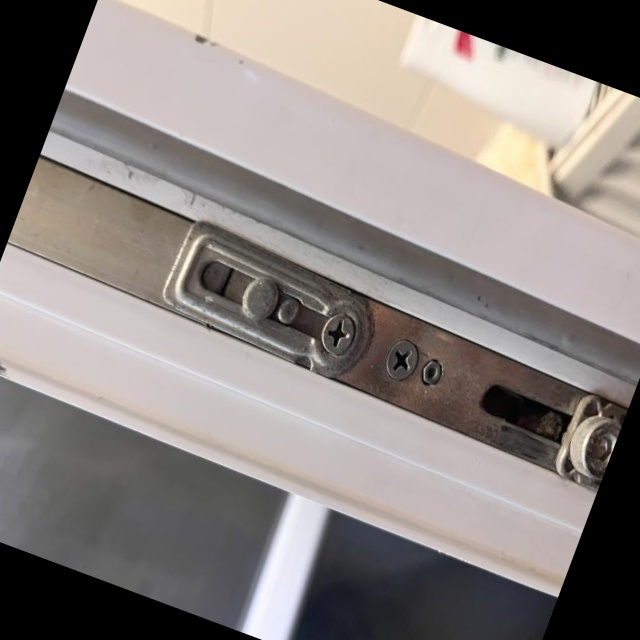allen: (420, 358, 445, 387)
phillips: (316, 309, 360, 360), (380, 335, 424, 386)
